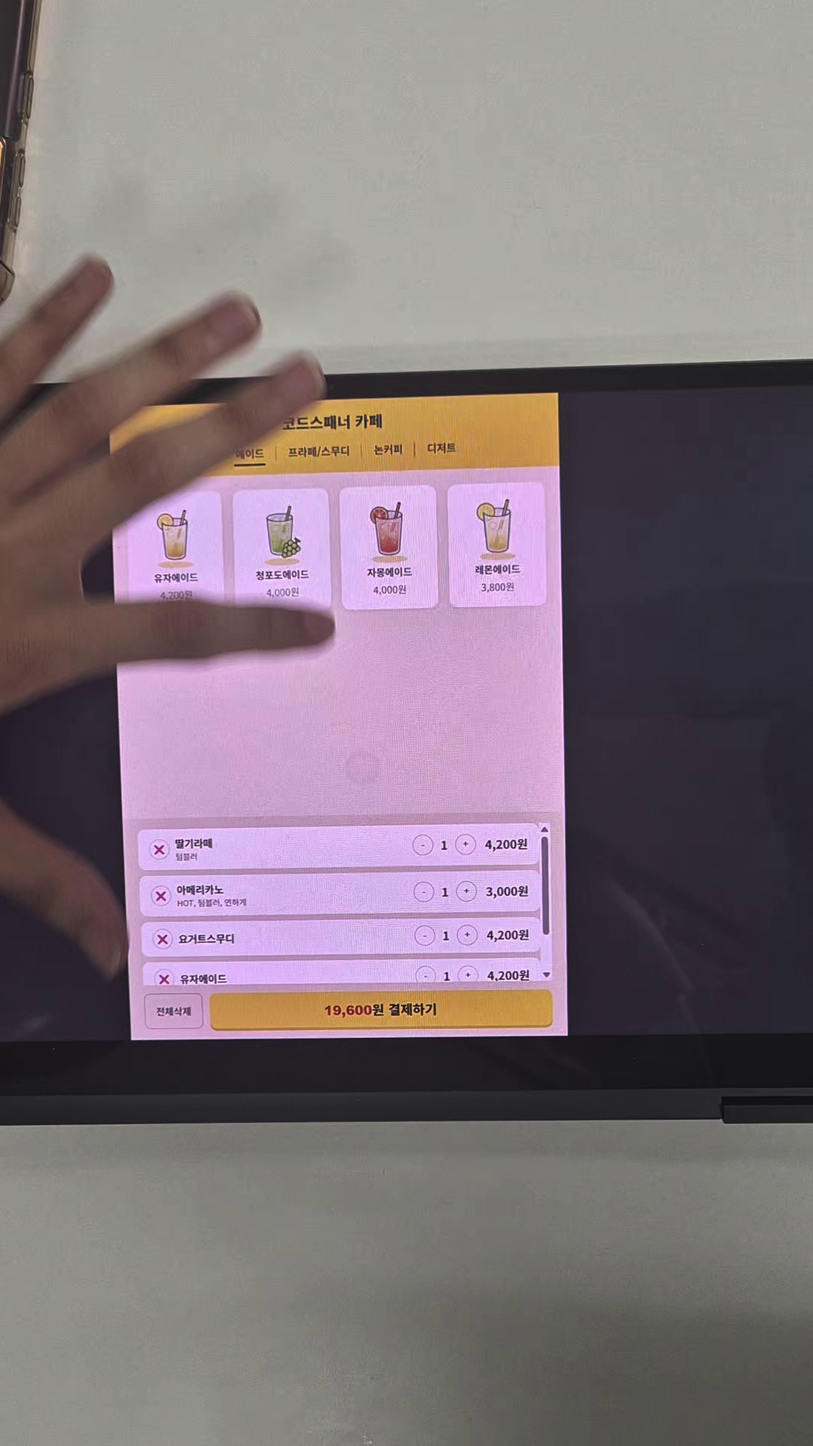action_button: (210, 990, 553, 1031), (144, 993, 203, 1028)
cart_item: (138, 823, 539, 871), (140, 871, 540, 917), (141, 917, 541, 958), (143, 958, 541, 986)
category_tab: (287, 442, 351, 460), (424, 440, 458, 455), (373, 442, 404, 458)
menu_back: (123, 489, 223, 620), (447, 482, 549, 607), (341, 485, 439, 612), (234, 488, 331, 616)
menu_name: (254, 568, 310, 581), (152, 571, 199, 585), (366, 566, 412, 579), (475, 564, 521, 575)
menu_price: (159, 589, 193, 601), (265, 587, 300, 598), (373, 584, 406, 595), (481, 582, 514, 593)
